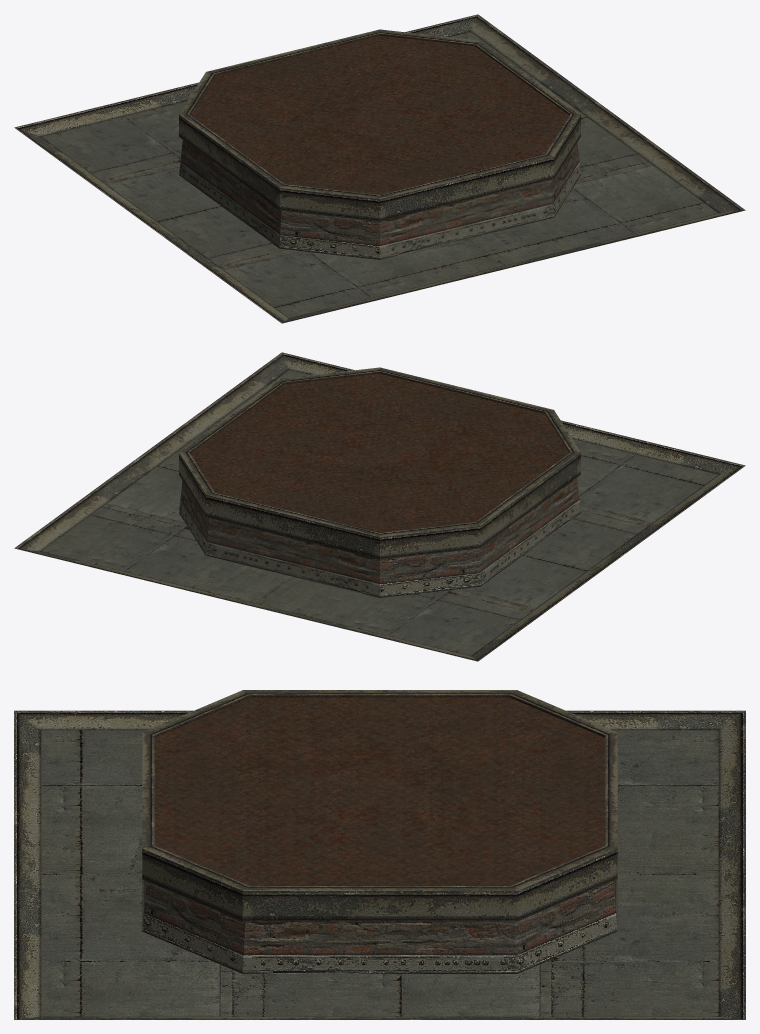
Rendered from structure_piece_rg_2.glb.
3 renders of one model, top to bottom at view 1: azimuth 30°, elevation 25°; view 2: azimuth 150°, elevation 25°; view 3: azimuth 270°, elevation 25°, orthographic. The views are drawn at different scales.
Visible parts, largest first — view 1: structure_piece_rg_2; view 2: structure_piece_rg_2; view 3: structure_piece_rg_2.
Part boxes in pixels (x1,y1,x2,y2): structure_piece_rg_2: (14, 14, 745, 323); structure_piece_rg_2: (14, 352, 745, 661); structure_piece_rg_2: (14, 690, 745, 1019).
Size of the model in its own units: 8 by 1 by 8.
Materials: 3 (3 with a texture image).
